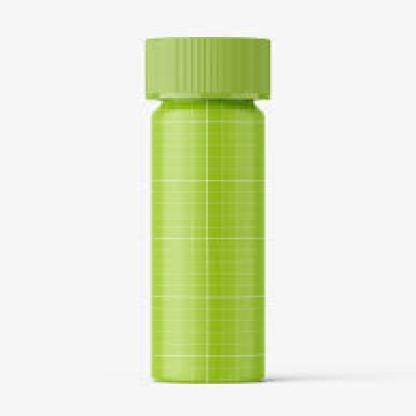jar: (145, 37, 271, 382)
